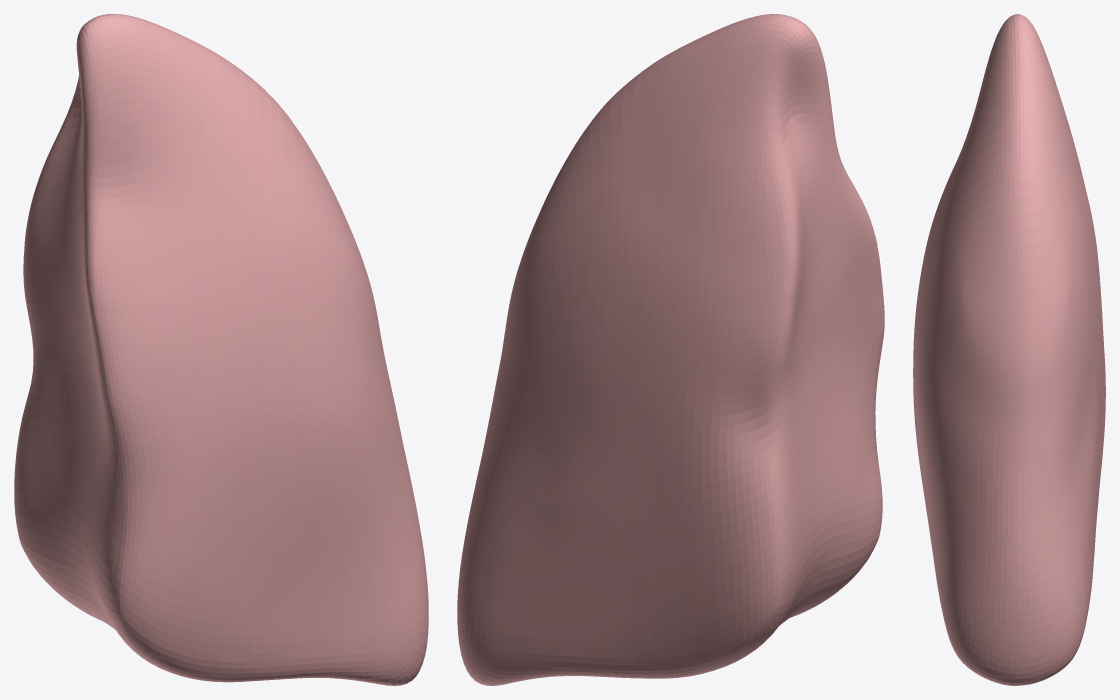
File: MS Lung.fbx
3 views of the same model, side by side, from view 1: azimuth 30°, elevation 25°; view 2: azimuth 150°, elevation 25°; view 3: azimuth 270°, elevation 25° (orthographic). The views are drawn at different scales.
Visible parts, largest first — view 1: Cube.005; view 2: Cube.005; view 3: Cube.005.
Part boxes in pixels (x1,y1,x2,y2): Cube.005: (14,14,428,685); Cube.005: (457,14,884,685); Cube.005: (913,14,1105,685).
Size of the model in its own units: 152 by 289 by 90.14.
